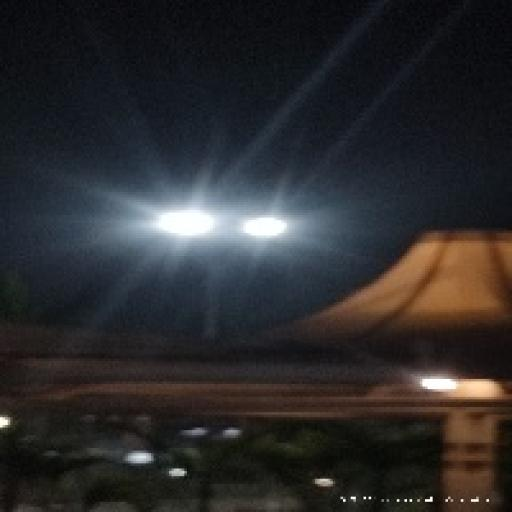Working: (230, 206, 296, 249), (148, 206, 220, 245)
